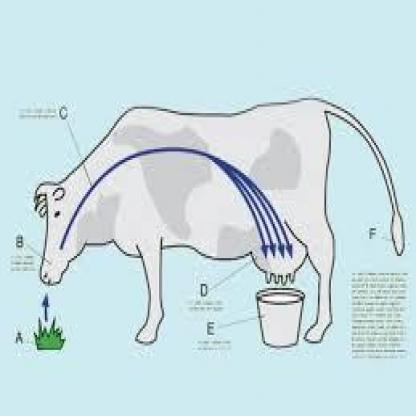cow: (33, 96, 407, 346)
